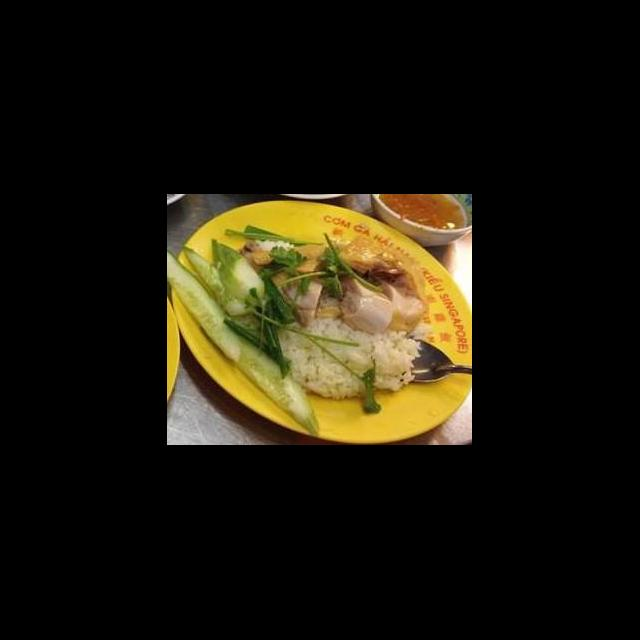com: (272, 314, 424, 404)
rau ram: (222, 224, 326, 248)
thit ga: (237, 232, 428, 338)
